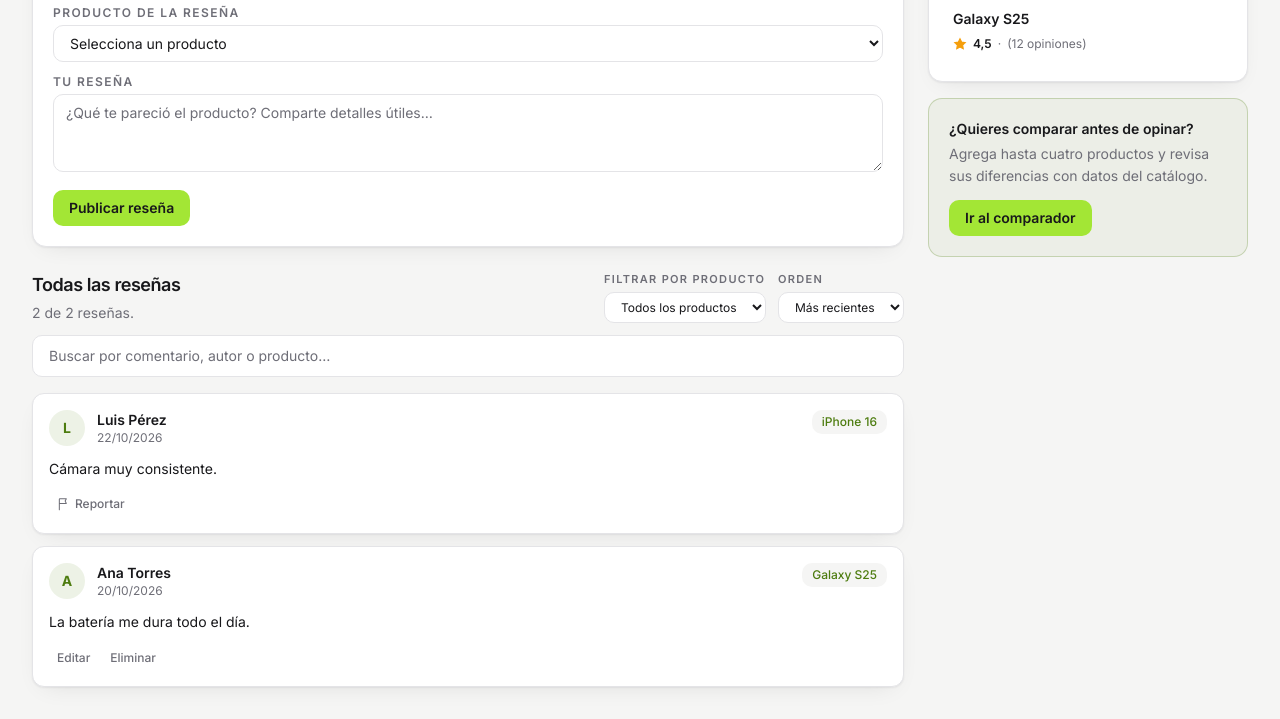
it: ResenasCliente › marca la reseña como reportada tras enviar el reporte
(page scrolled)
Expected: the text "Cámara muy consistente." is shown, [49, 460, 217, 476]
Click the button with aria-label "Reportar reseña" at (91, 504), box [49, 492, 133, 516]
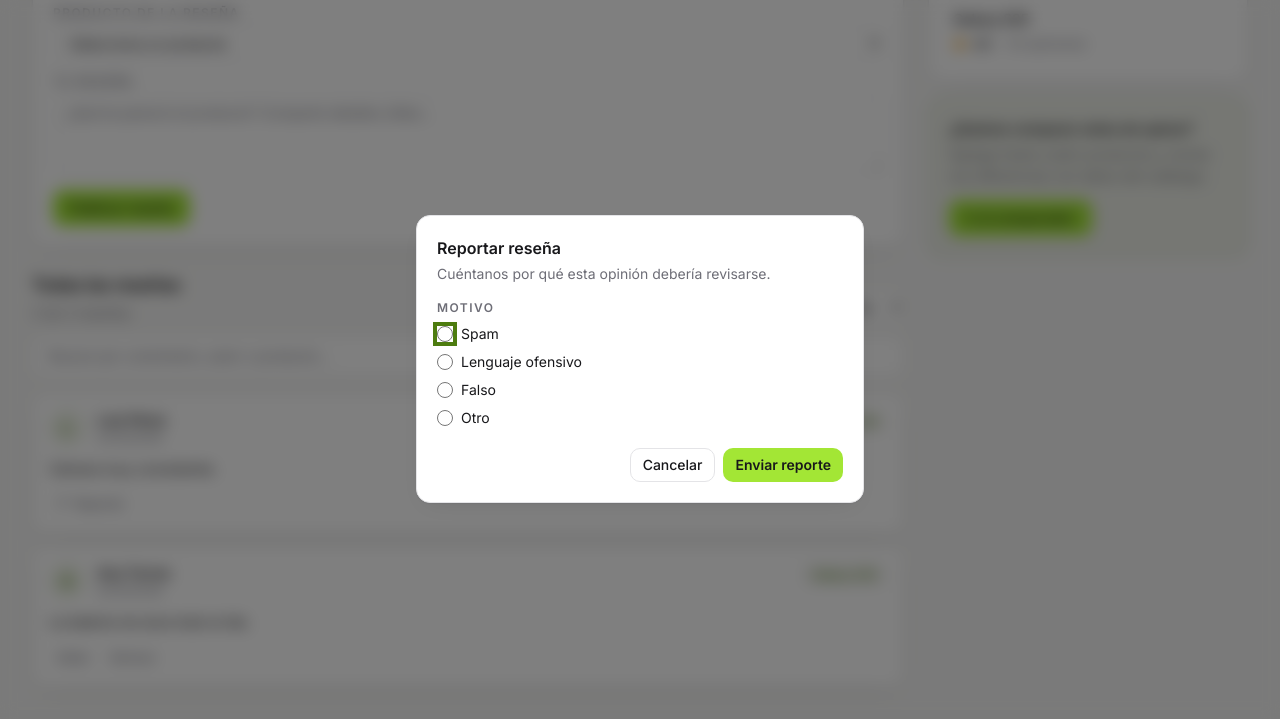
Click the radio button labelled "Spam" at (445, 334), box [437, 326, 453, 342]
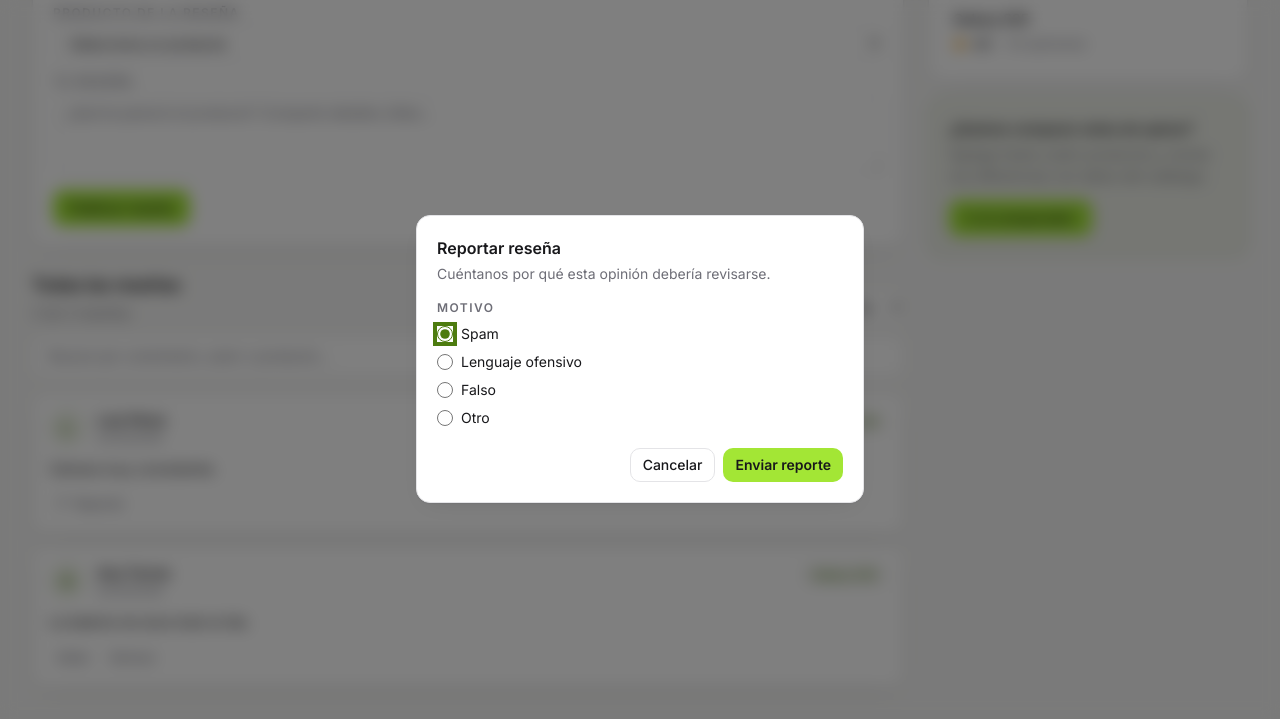
Click the button "Enviar reporte" at (783, 465), box [724, 448, 843, 482]
(page scrolled)
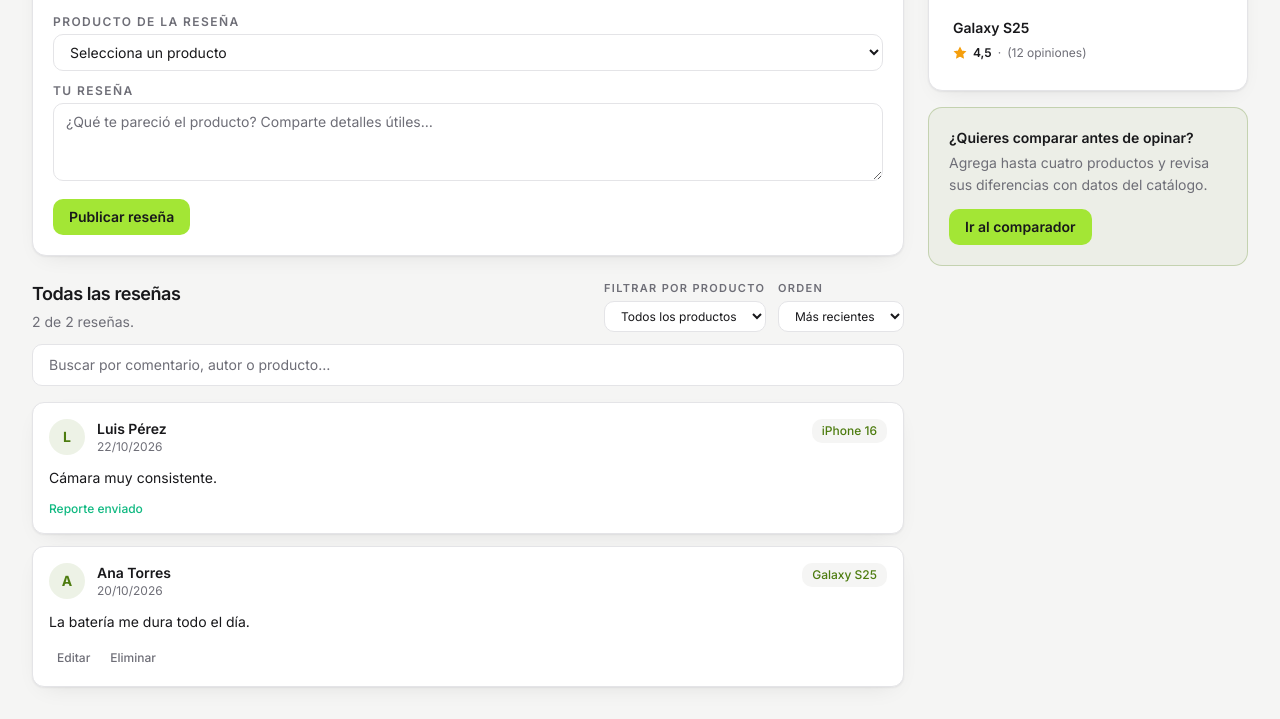
Expected: the dialog is gone
Expected: the text "Reporte enviado" is shown, [49, 501, 143, 516]
Expected: the heading "Reportar reseña" is gone
